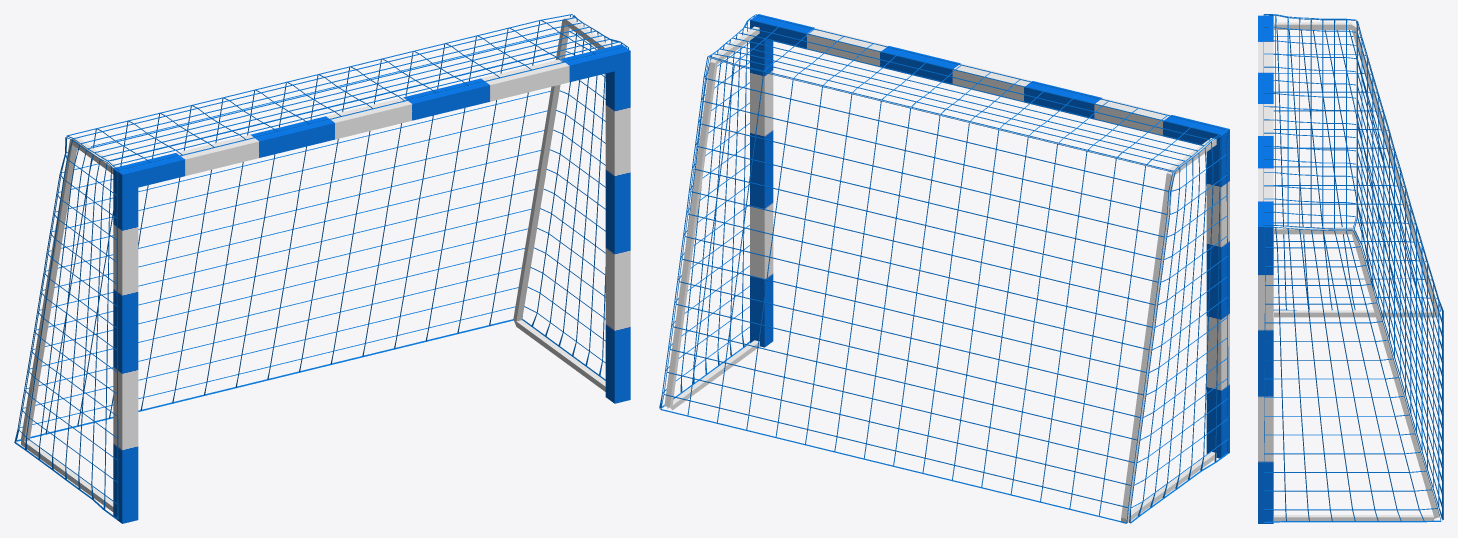
The model's file is FutsalGoal5.fbx.
3 renders of one model, left to right at view 1: azimuth 30°, elevation 25°; view 2: azimuth 150°, elevation 25°; view 3: azimuth 270°, elevation 25°, orthographic. The views are drawn at different scales.
Parts seen in each view (by area): view 1: Goalmouth, Net; view 2: Net, Goalmouth; view 3: Net, Goalmouth.
Part boxes in pixels (x1,y1,x2,y2): Goalmouth: [21, 17, 630, 523]; Net: [14, 14, 628, 519]; Net: [659, 14, 1228, 523]; Goalmouth: [664, 14, 1229, 523]; Net: [1263, 14, 1443, 522]; Goalmouth: [1258, 15, 1439, 523].
Bounding box in the file's own units: 323 × 211 × 119.
